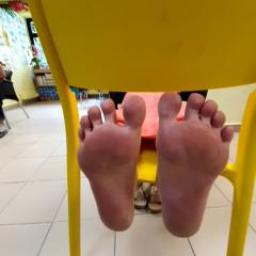Plantar View -Both Feet-: (45, 66, 255, 249)
